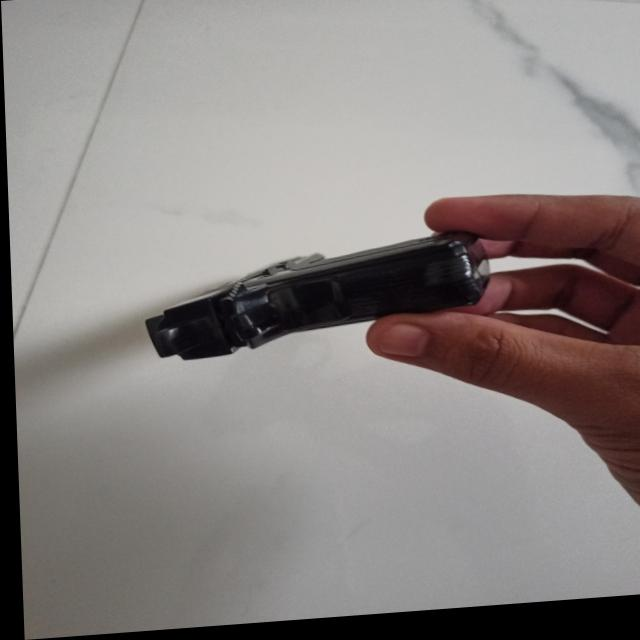handgun: (139, 231, 491, 367)
